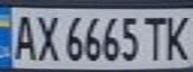5: (118, 12, 145, 62)
6: (60, 12, 84, 63), (100, 12, 124, 63), (81, 12, 103, 63)
A: (6, 10, 39, 61)
K: (160, 11, 193, 62)
T: (139, 12, 169, 62)
X: (33, 11, 60, 62)
